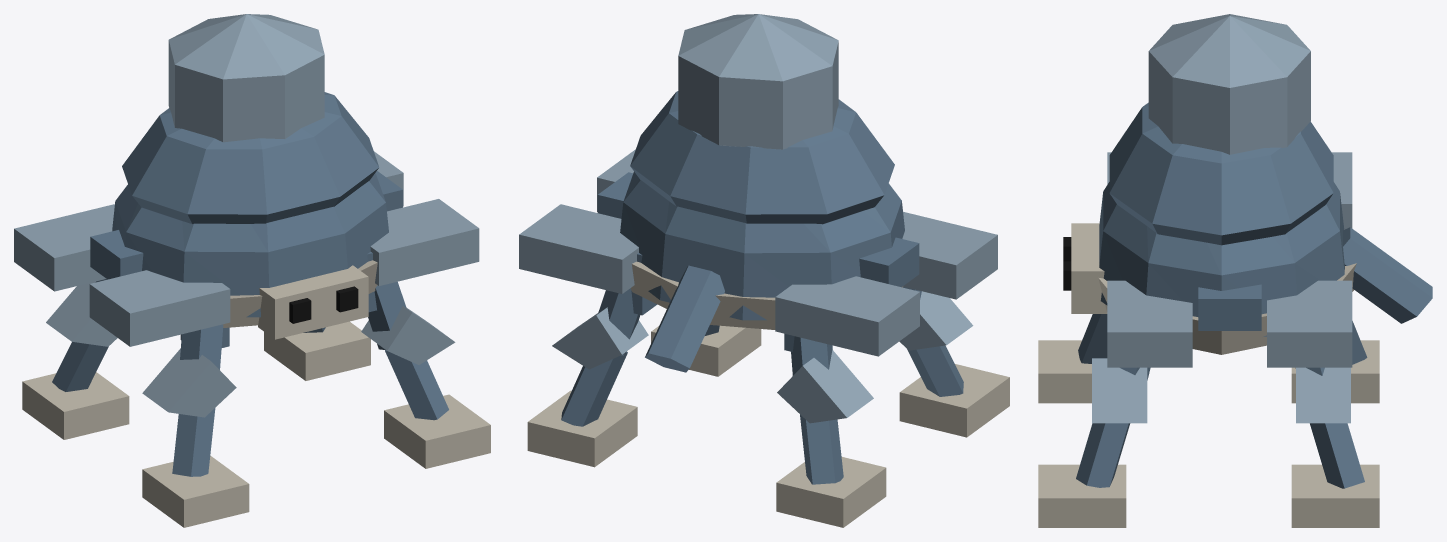
Rendered from fogstilt.glb.
3 renders of one model, left to right at view 1: azimuth 30°, elevation 25°; view 2: azimuth 150°, elevation 25°; view 3: azimuth 270°, elevation 25°, orthographic. The views are drawn at different scales.
Parts seen in each view (by area): view 1: Fogstilt; view 2: Fogstilt; view 3: Fogstilt.
Boxes of the visible parts, left/top/right/bottom form: Fogstilt: left=14, top=14, right=490, bottom=527; Fogstilt: left=519, top=14, right=1009, bottom=527; Fogstilt: left=1038, top=14, right=1432, bottom=527.
Size of the model in its own units: 0.82 by 0.92 by 0.76.
